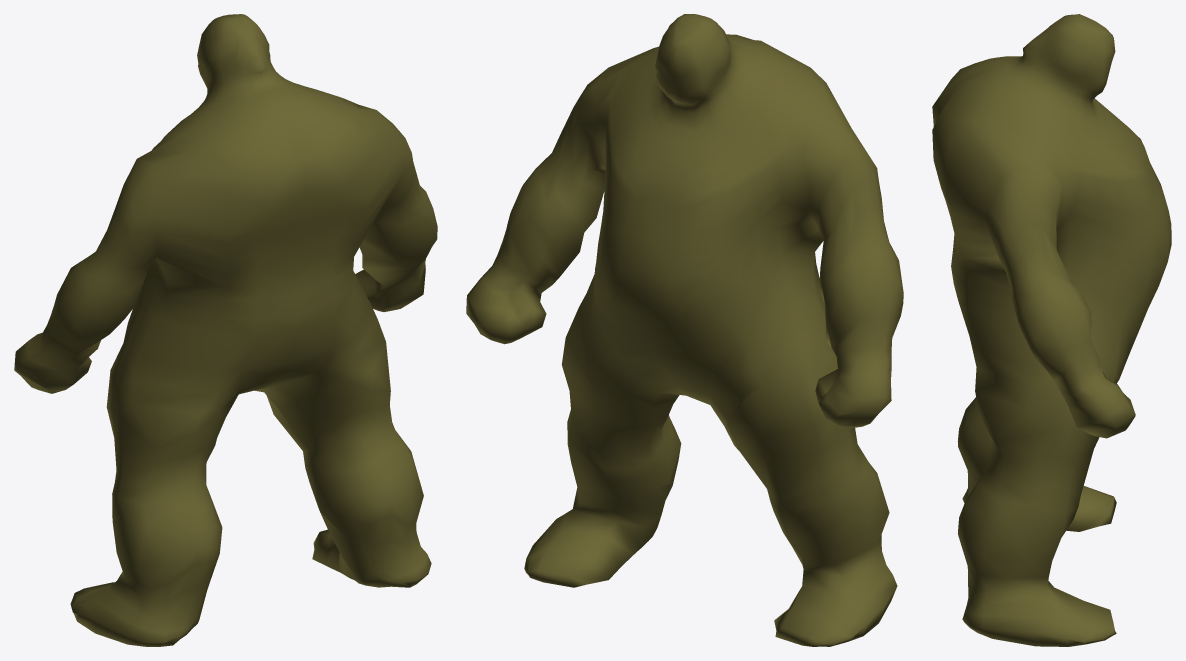
File: FatZombie1.fbx
3 views of the same model, side by side, from view 1: azimuth 30°, elevation 25°; view 2: azimuth 150°, elevation 25°; view 3: azimuth 270°, elevation 25° (orthographic). The views are drawn at different scales.
Visible parts, largest first — view 1: BSurfaceMesh; view 2: BSurfaceMesh; view 3: BSurfaceMesh.
Boxes of the visible parts, x1,y1,x2,y2 form: BSurfaceMesh: (14,14,437,646); BSurfaceMesh: (466,14,903,646); BSurfaceMesh: (932,14,1171,646).
Bounding box in the file's own units: 2.22 × 2.94 × 1.15.
